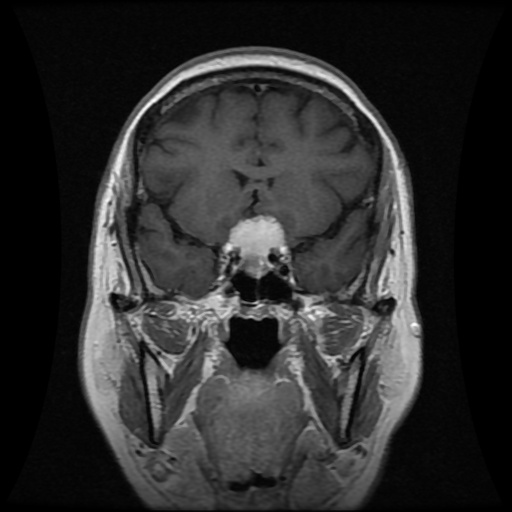meningioma: (224, 214, 288, 277)
